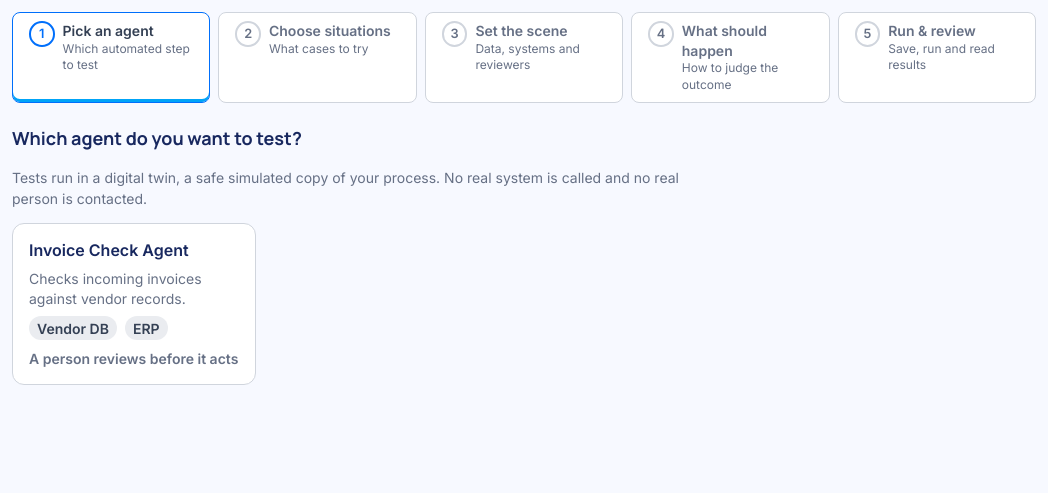
Test: TwinTestBuilder › opens straight on results, in business language, when the agent already has a suite
The width and height of the screenshot is (1048, 493).
Click the button "Invoice Check Agent" at (134, 304), box [12,223,256,385]
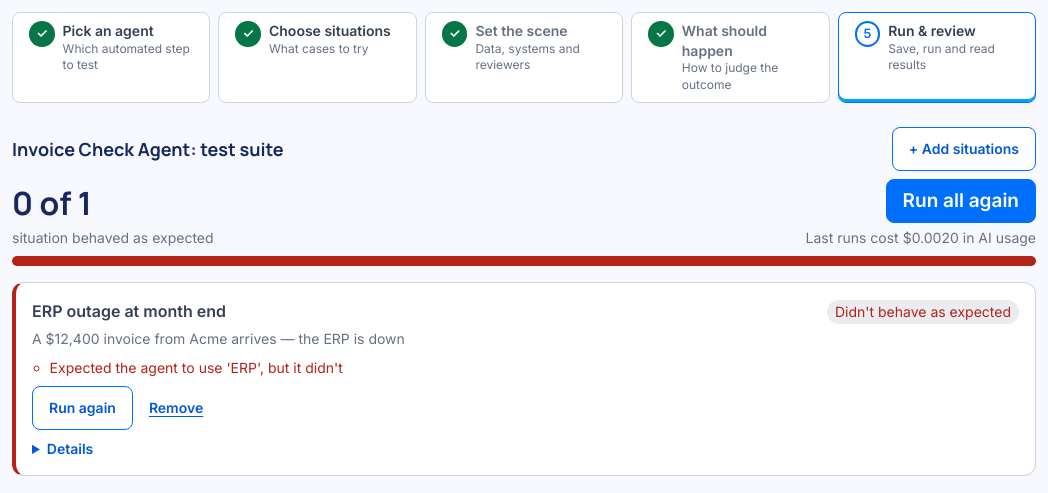
Expected: the text "Didn't behave as expected" is shown, [827,300,1019,324]
Expected: the list item "Expected the agent to use 'ERP', but it didn't" is shown, [50,359,343,376]
Expected: the text "0 of 1" is shown, [12,181,92,225]
